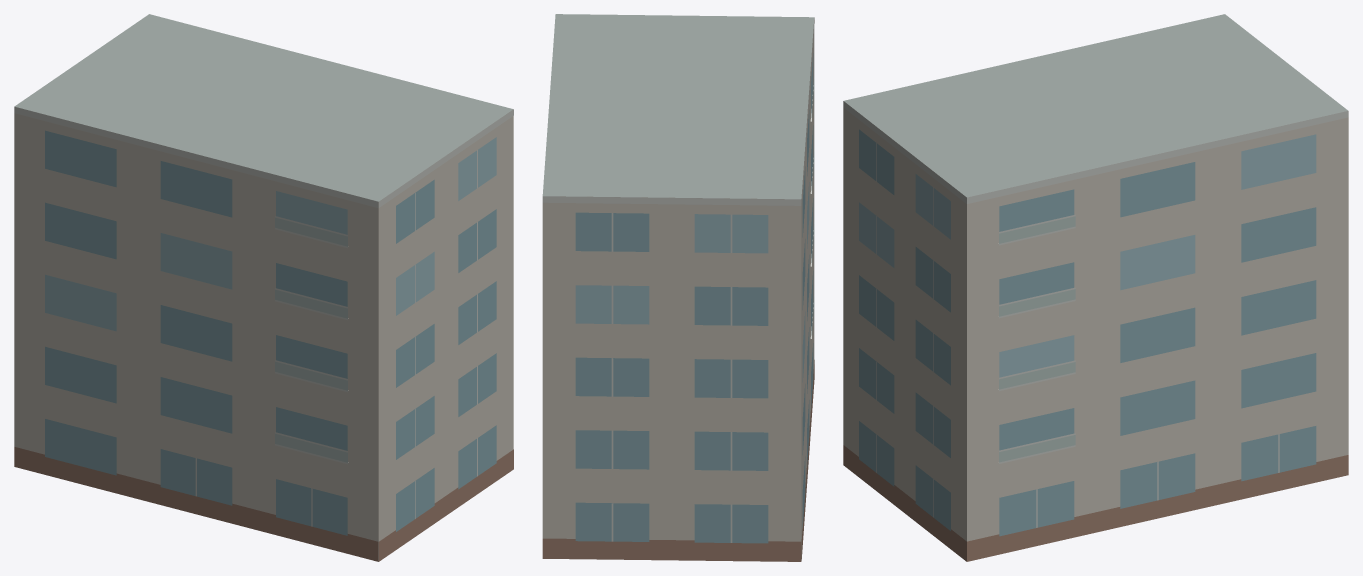
Rendered from survey-upis-32893711.glb.
3 views of the same model, side by side, from view 1: azimuth 30°, elevation 25°; view 2: azimuth 150°, elevation 25°; view 3: azimuth 270°, elevation 25° (orthographic).
Visible parts, largest first — view 1: survey-upis-32893711.tmp; view 2: survey-upis-32893711.tmp; view 3: survey-upis-32893711.tmp.
Part boxes in pixels (x1,y1,x2,y2): survey-upis-32893711.tmp: [14, 14, 513, 561]; survey-upis-32893711.tmp: [542, 14, 814, 561]; survey-upis-32893711.tmp: [843, 14, 1348, 561].
Bounding box in the file's own units: 14.54 × 13.45 × 16.91.
